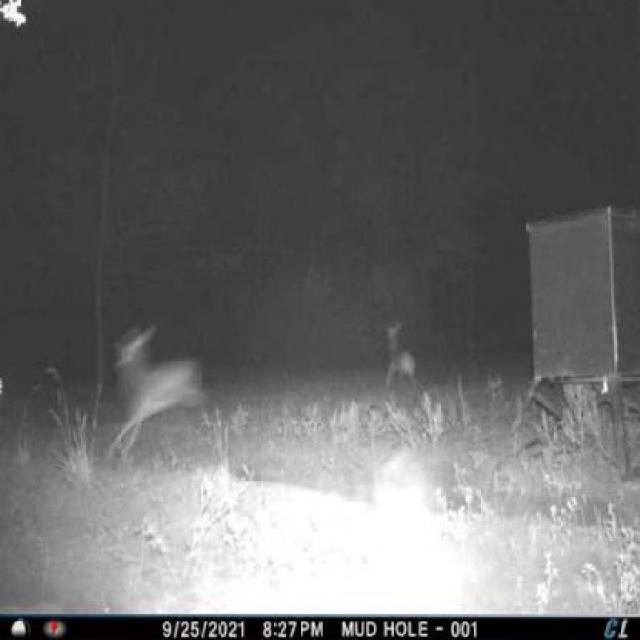Deer: (93, 310, 212, 468), (375, 313, 419, 402)
